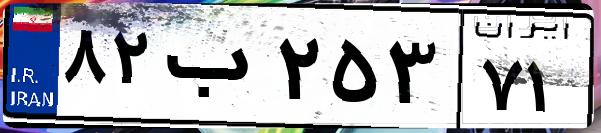1: (525, 38, 570, 115)
2: (270, 28, 330, 110), (110, 28, 158, 98)
3: (385, 28, 445, 110)
5: (330, 28, 385, 110)
7: (475, 38, 525, 113)
8: (57, 26, 110, 100)
ب: (158, 20, 270, 120)
